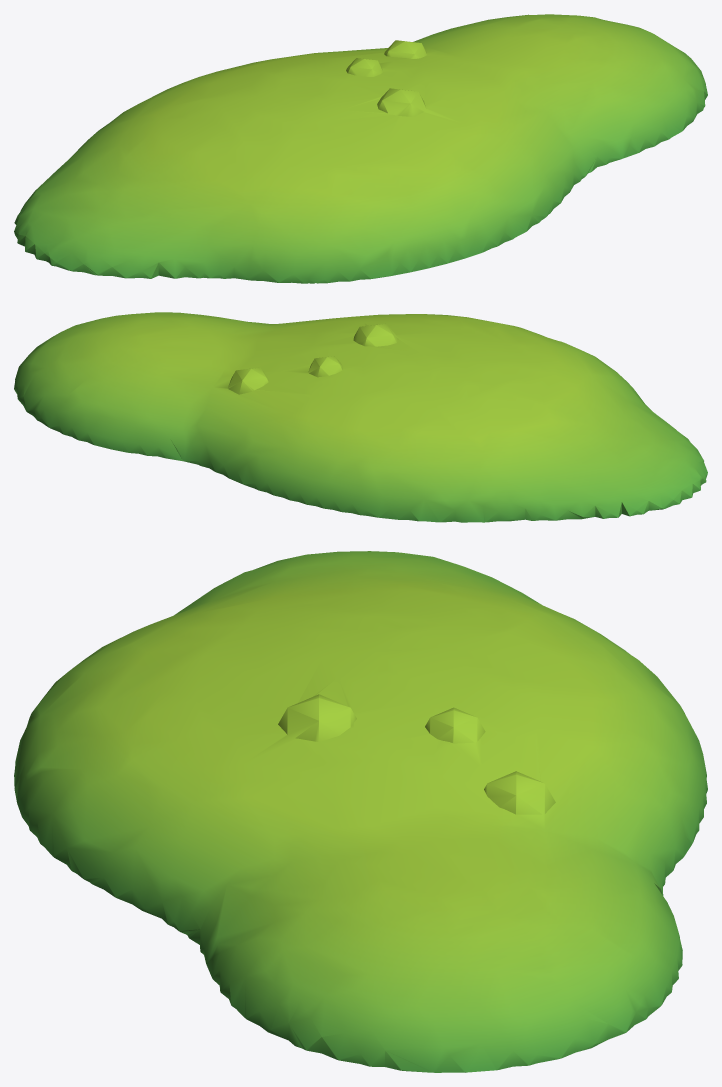
The model's file is goo_puddle_large.glb.
The picture shows the model from 3 angles, top to bottom: view 1: azimuth 30°, elevation 25°; view 2: azimuth 150°, elevation 25°; view 3: azimuth 270°, elevation 25°; orthographic projection. The views are drawn at different scales.
Visible parts, largest first — view 1: goo_puddle_large; view 2: goo_puddle_large; view 3: goo_puddle_large.
Part boxes in pixels (x1=…): goo_puddle_large: x1=14, y1=14, x2=707, y2=283; goo_puddle_large: x1=14, y1=312, x2=707, y2=522; goo_puddle_large: x1=14, y1=551, x2=707, y2=1072.
Size of the model in its own units: 1.9 by 0.229 by 1.1.
Materials: 1 (1 with a texture image).
